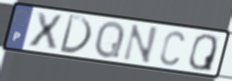C: (158, 29, 186, 67)
D: (57, 13, 93, 56)
N: (120, 23, 160, 65)
Q: (93, 19, 127, 60), (187, 33, 219, 73)
X: (27, 11, 64, 51)
